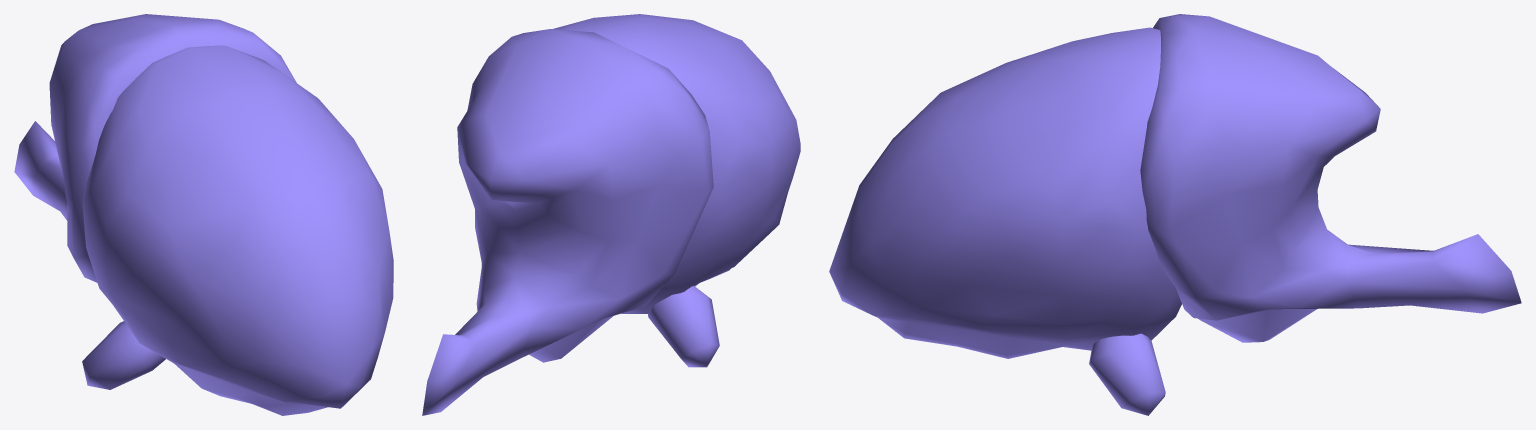
File: Beatle.fbx
3 renders of one model, left to right at view 1: azimuth 30°, elevation 25°; view 2: azimuth 150°, elevation 25°; view 3: azimuth 270°, elevation 25°, orthographic. The views are drawn at different scales.
Visible parts, largest first — view 1: Group45632; view 2: Group45632; view 3: Group45632.
Boxes of the visible parts, x1,y1,x2,y2 form: Group45632: [14, 14, 393, 415]; Group45632: [422, 14, 800, 415]; Group45632: [829, 14, 1521, 415].
Size of the model in its own units: 2.28 by 2.75 by 5.1.
